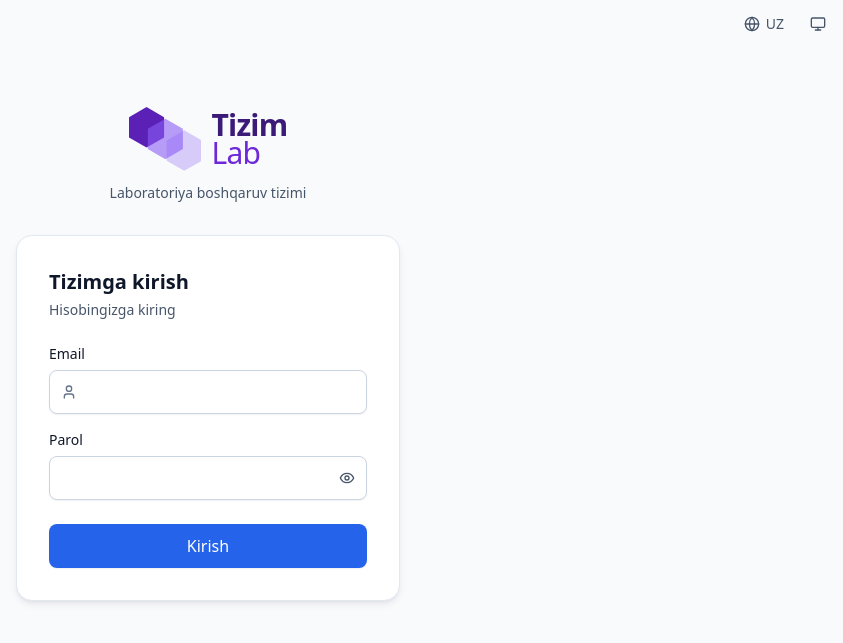
LoginPage › bo'sh va noto'g'ri formatdagi maydonlar — so'rov yuborilmaydi
This screenshot has width=843, height=643.
Click the button "Kirish".
click(208, 546)  # box left=49, top=524, right=367, bottom=568
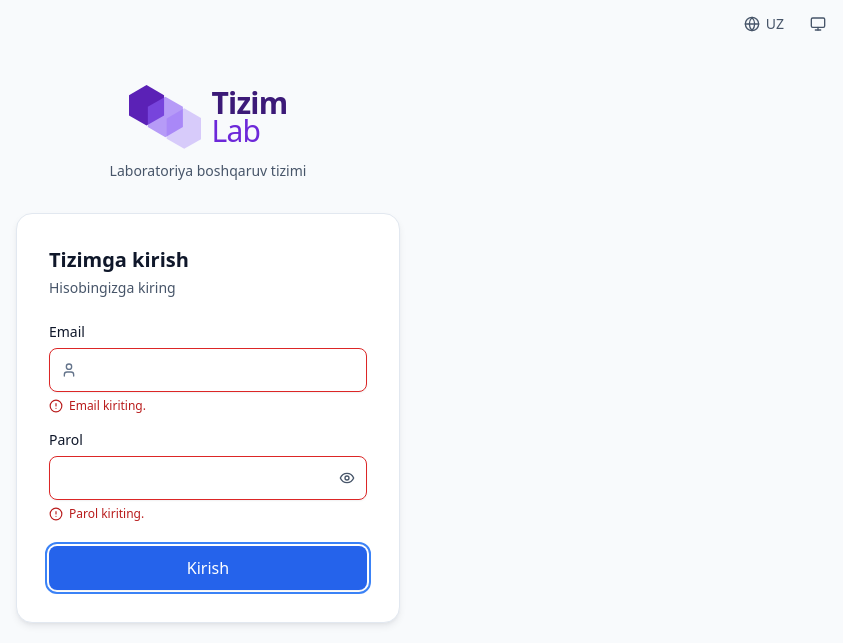
Expected: the text "Email kiriting." is shown, left=69, top=398, right=146, bottom=414
Expected: the text "Parol kiriting." is shown, left=69, top=506, right=144, bottom=522
Type "emas-email" into the field labelled "Email".
click(208, 370); type("emas-email")  # box left=49, top=348, right=367, bottom=392
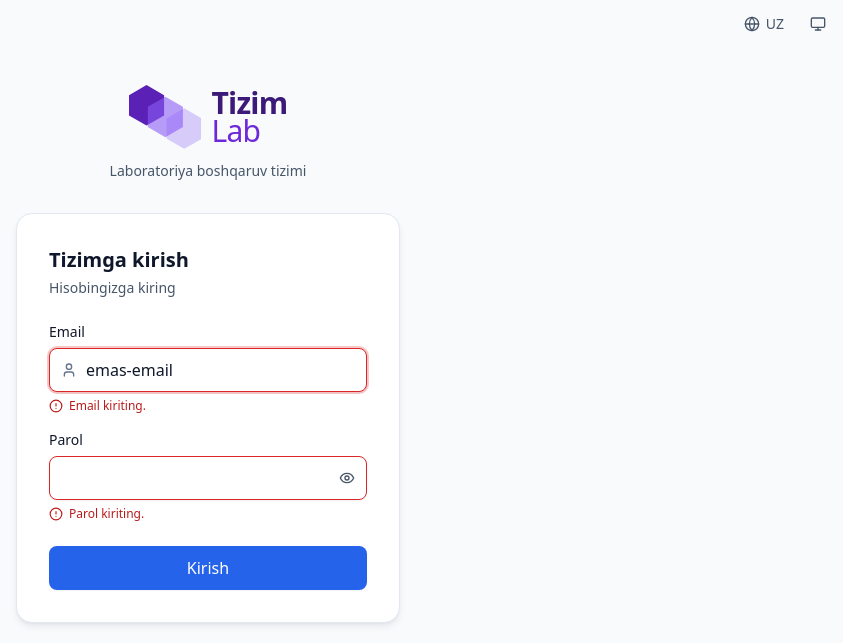
Type "x" into the password field labelled "Parol".
click(208, 478); type("x")  # box left=49, top=456, right=367, bottom=500
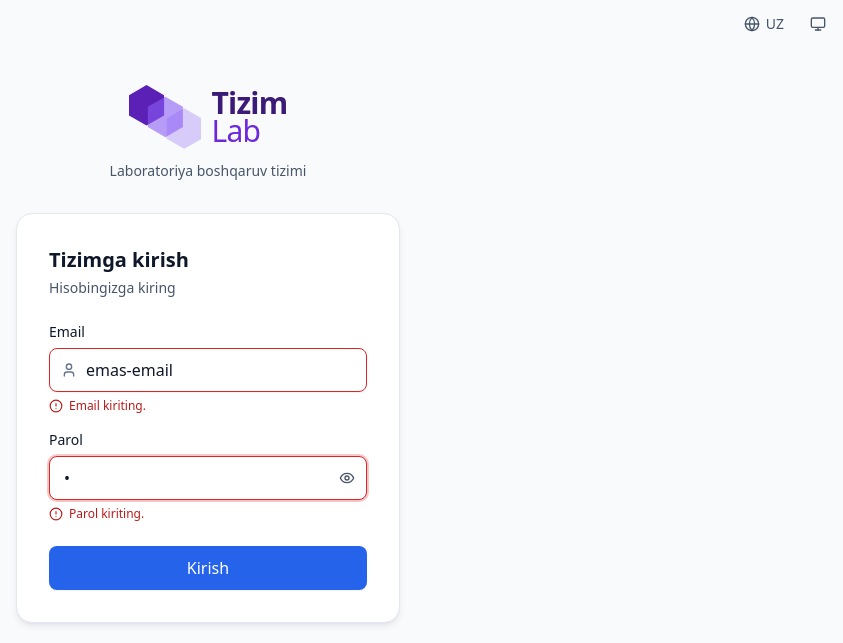
Click the button "Kirish".
click(208, 568)  # box left=49, top=546, right=367, bottom=590
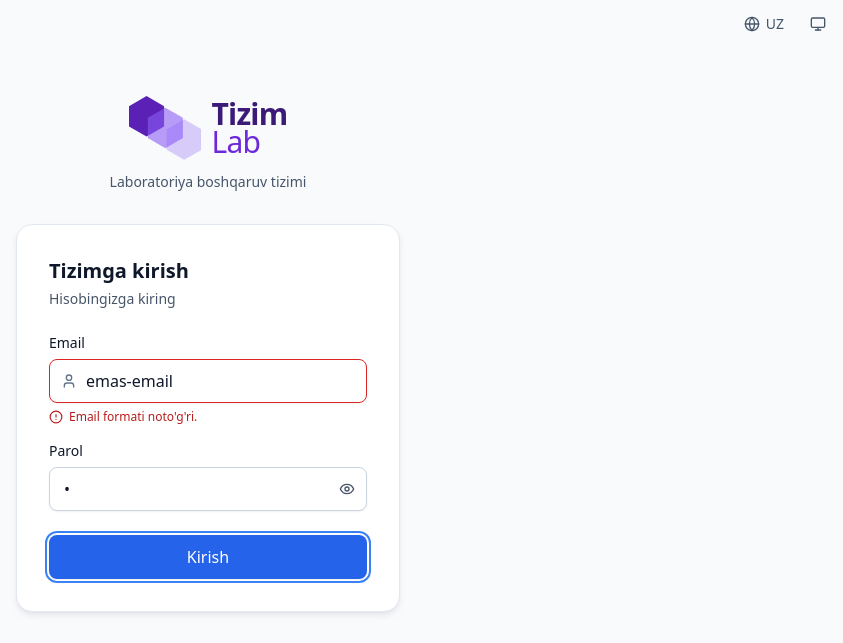
Expected: the text "Email formati noto'g'ri." is shown, left=69, top=409, right=197, bottom=425
